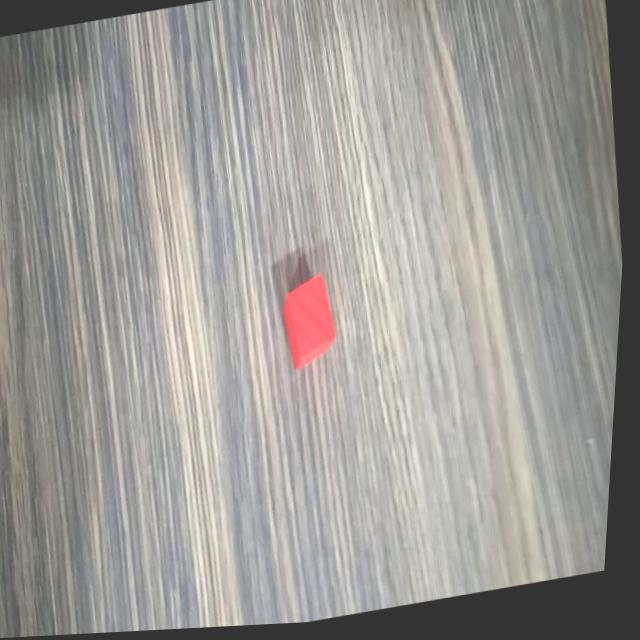cube: (276, 271, 351, 379)
